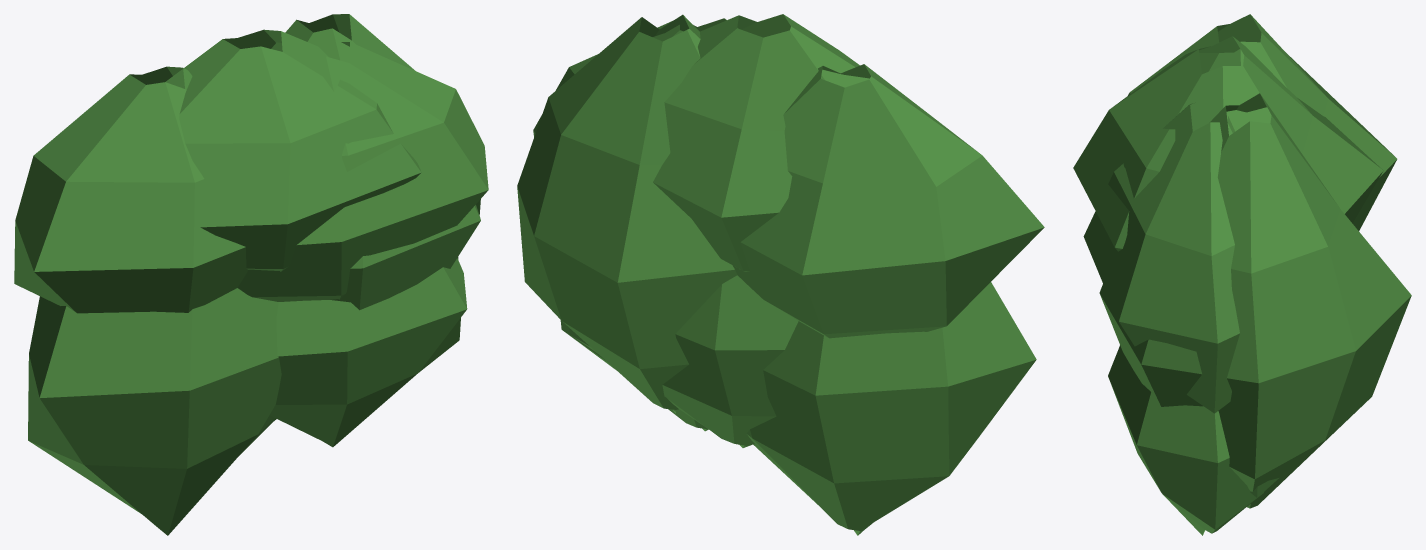
Rendered from bush_03.glb.
3 views of the same model, side by side, from view 1: azimuth 30°, elevation 25°; view 2: azimuth 150°, elevation 25°; view 3: azimuth 270°, elevation 25° (orthographic). The views are drawn at different scales.
Visible parts, largest first — view 1: BUSH_03; view 2: BUSH_03; view 3: BUSH_03.
Boxes of the visible parts, <box> form: BUSH_03: <box>14,14,488,535</box>; BUSH_03: <box>517,14,1044,535</box>; BUSH_03: <box>1073,14,1411,535</box>.
Bounding box in the file's own units: 2.72 × 2.63 × 1.58.
